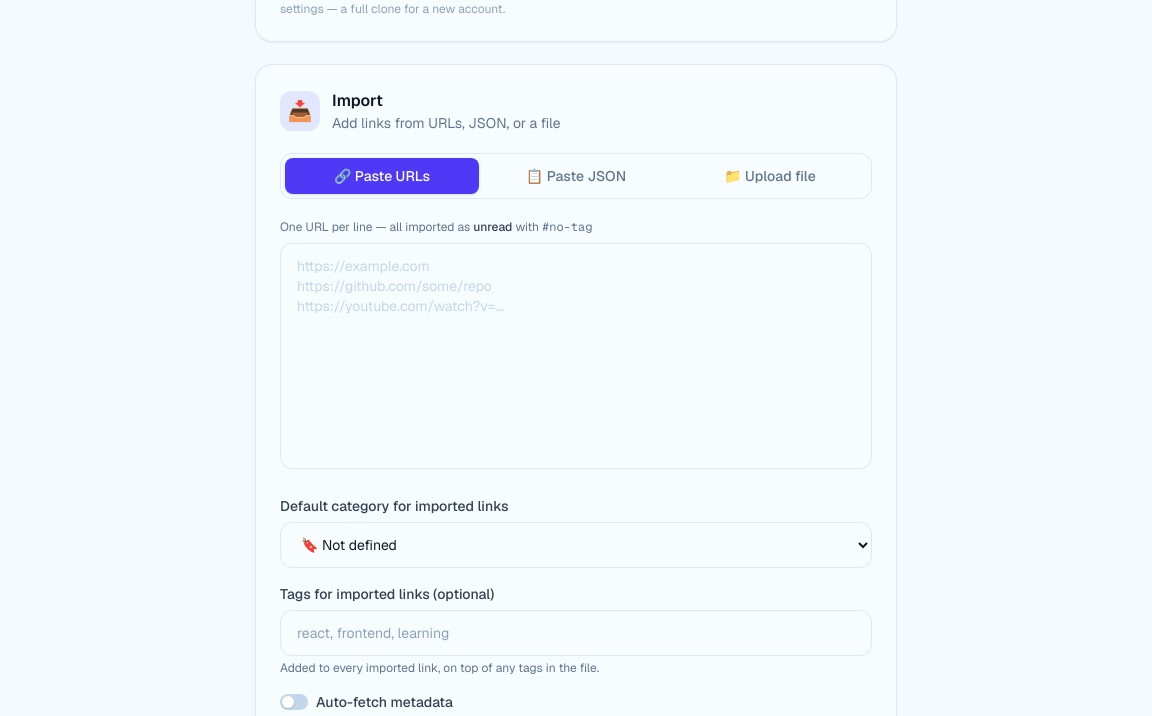
Scenario: ImportExportClient › URLs import › shows the result in the progress modal instead of an inline banner
(page scrolled)
Replace the text in the text box with "https://example.com". click: [576, 356]
box: left=280, top=243, right=872, bottom=469
(page scrolled)
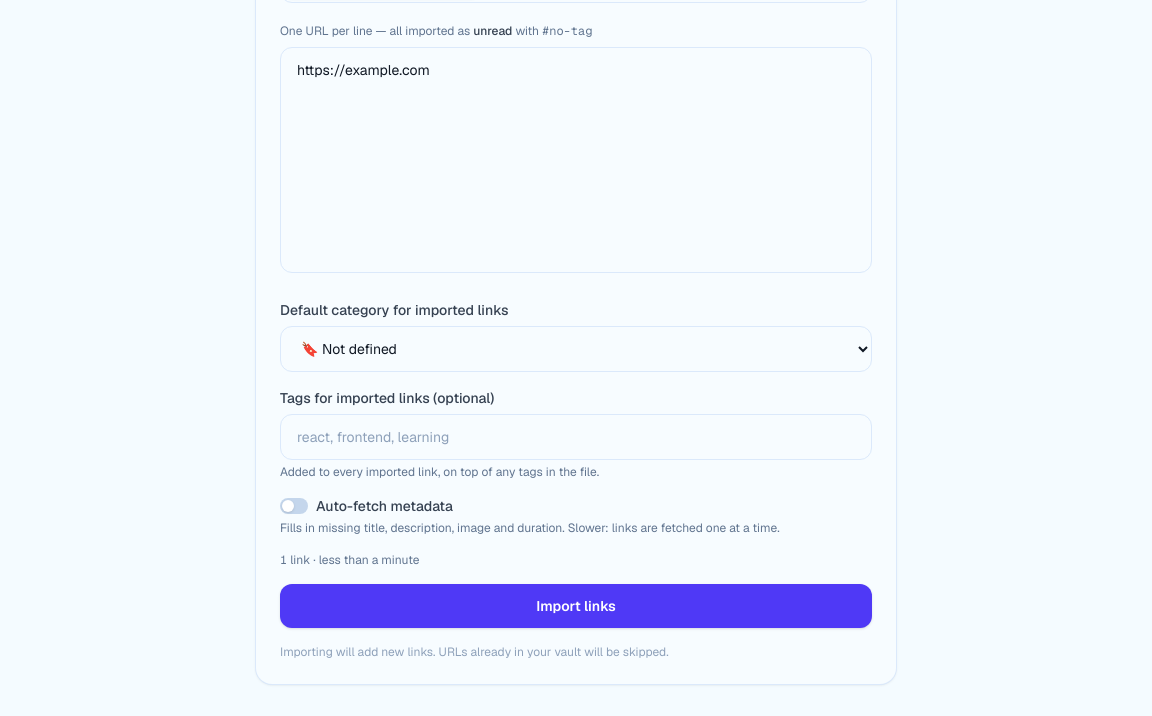
Click the button "Import links". click: [576, 606]
box: left=280, top=584, right=872, bottom=628
(page scrolled)
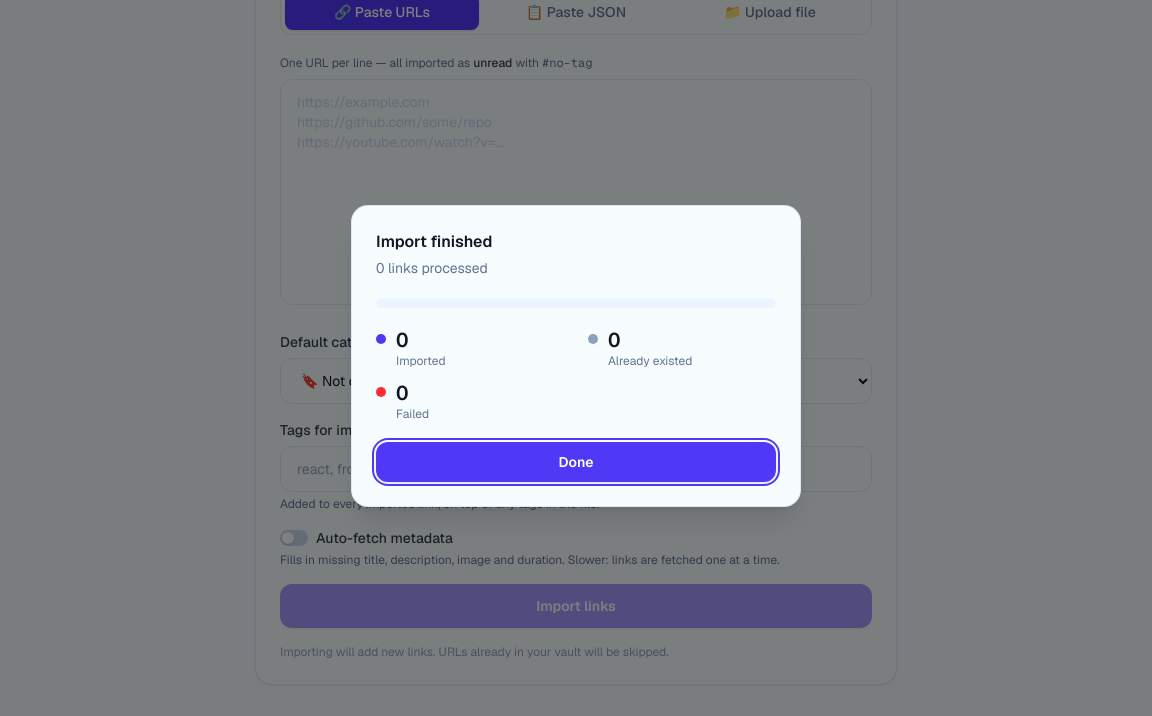
Expected: the dialog shows "Import finished", left=376, top=231, right=492, bottom=252
